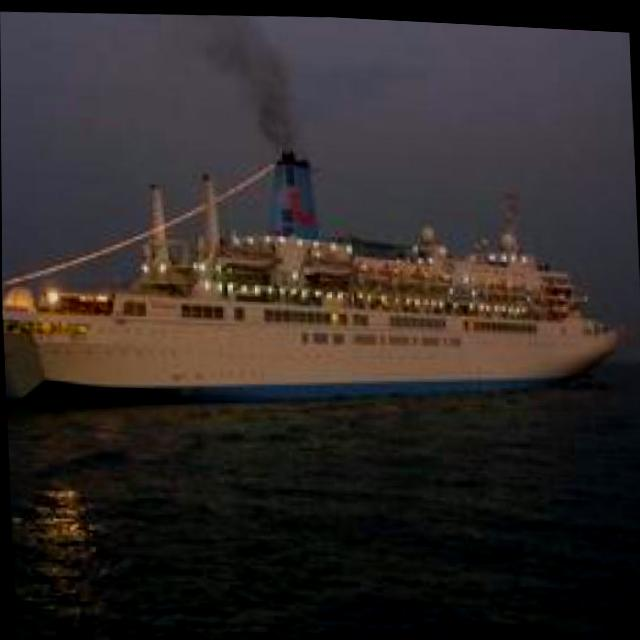ship2: (2, 150, 625, 404)
